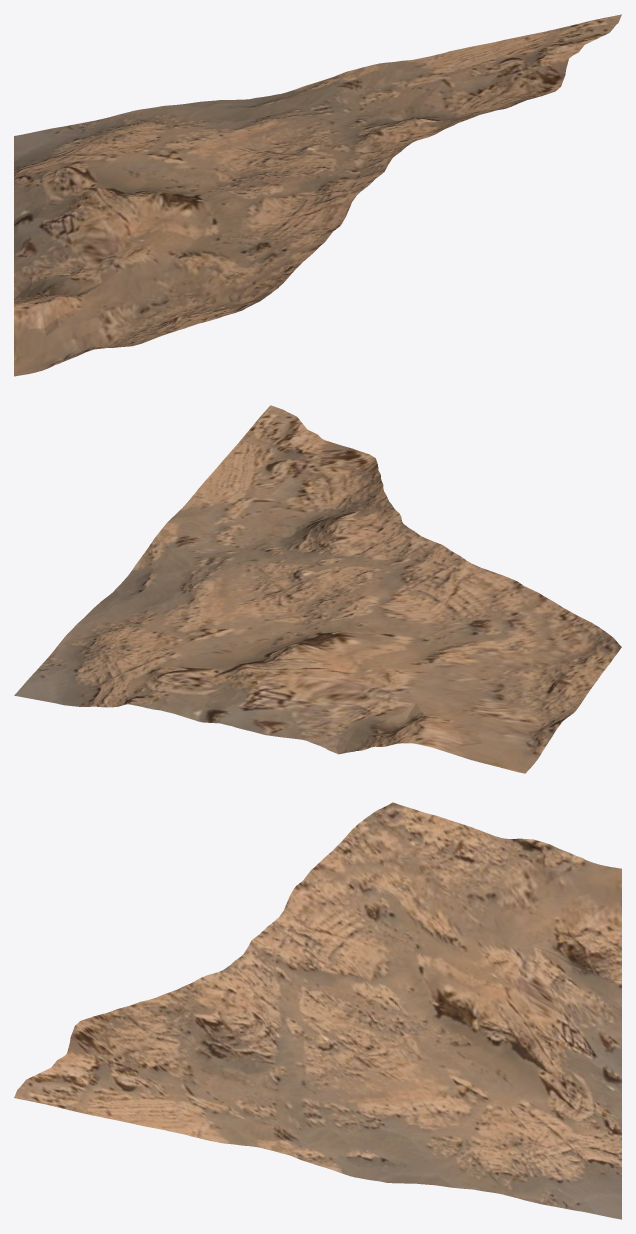
3 views of the same model, one above another, from view 1: azimuth 90°, elevation 25°; view 2: azimuth 150°, elevation 25°; view 3: azimuth 270°, elevation 25° (orthographic). The views are drawn at different scales.
Bounding box in the file's own units: 8.36 × 1.6 × 7.26.
2 materials, 2 textured.
